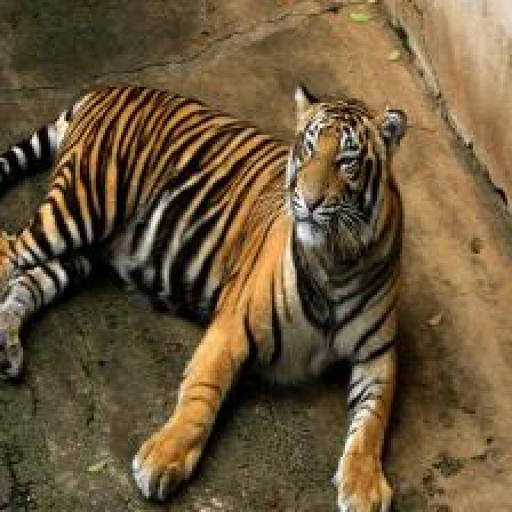Tiger: (2, 82, 469, 512)
